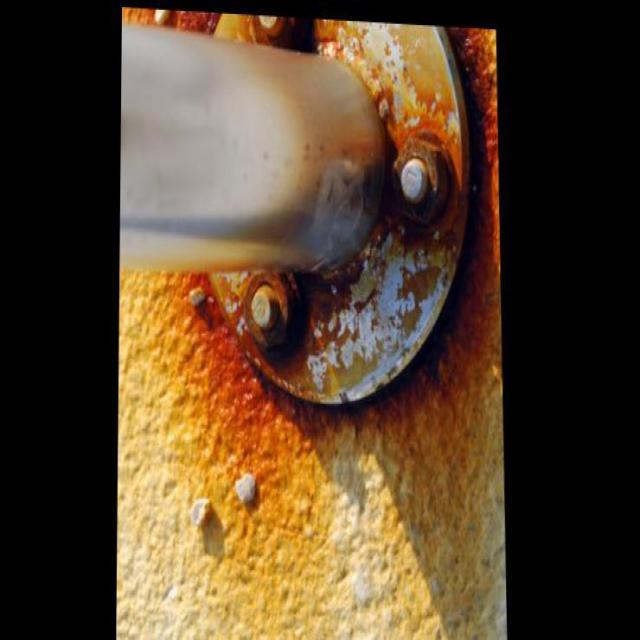Dry Waste: (147, 0, 502, 536)
